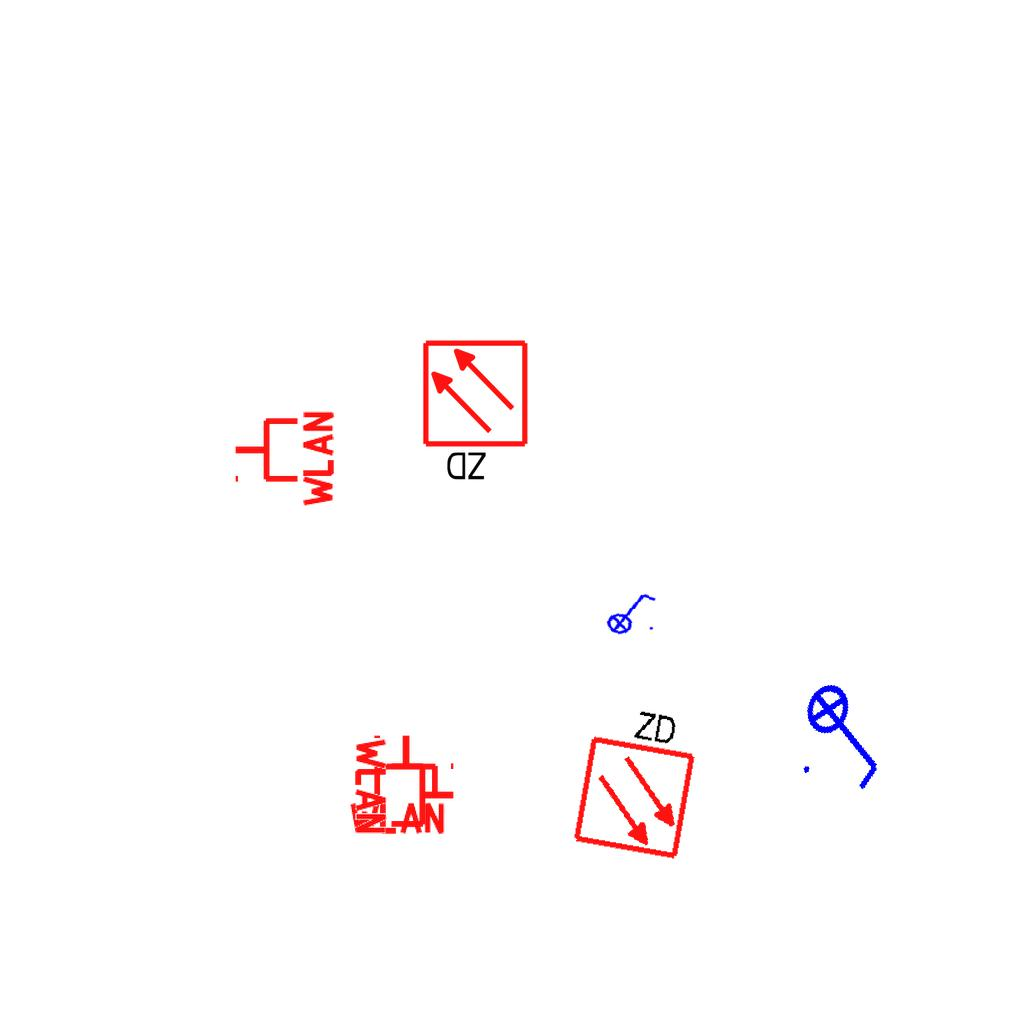Ausschalter_beleuchtet: (783, 665, 911, 803), (598, 584, 662, 640)
WLAN: (231, 407, 336, 511), (345, 731, 449, 836), (353, 734, 458, 838)
ZD_Melder_in_Zwischendecke_mit_Revisionsoeffnung_mind_40_x_40_cm: (566, 695, 706, 862), (420, 338, 534, 487)
